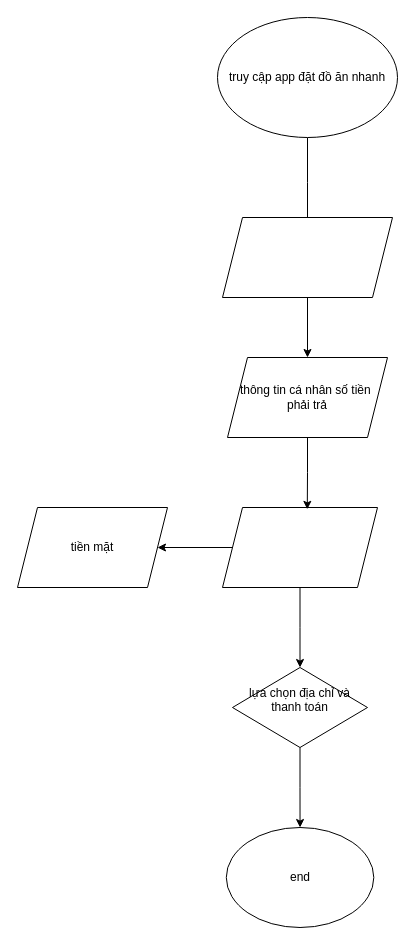
Image size: 415x945. Some labels were removed from this diagram. The centre of each missing label's shape, as x and y in pixels:
lựa chọn phương thức thanh toán: the point at 300,547
thông tin sản phẩm muốn sử dụng: the point at 307,257
